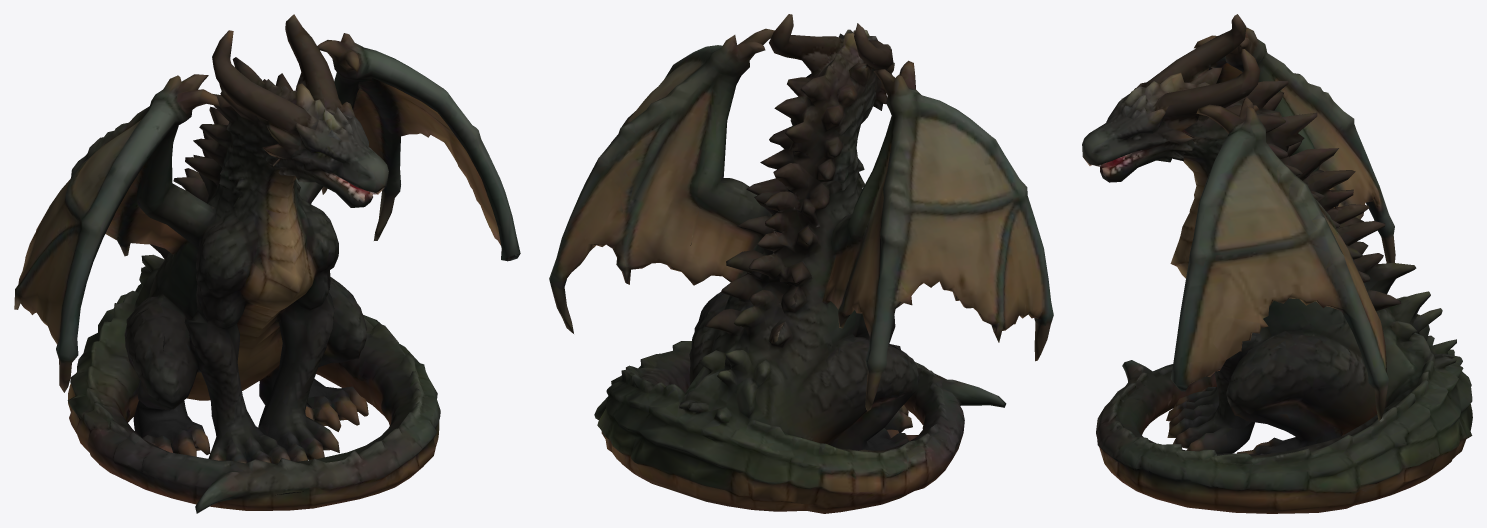
Rendered from detail_14_lo.glb.
3 views of the same model, side by side, from view 1: azimuth 30°, elevation 25°; view 2: azimuth 150°, elevation 25°; view 3: azimuth 270°, elevation 25° (orthographic). The views are drawn at different scales.
Visible parts, largest first — view 1: Mesh_0.001; view 2: Mesh_0.001; view 3: Mesh_0.001.
Part boxes in pixels (x1,y1,x2,y2): Mesh_0.001: (14, 14, 520, 513); Mesh_0.001: (549, 14, 1053, 513); Mesh_0.001: (1082, 14, 1472, 513).
Bounding box in the file's own units: 1.01 × 0.9456 × 0.8042.
1 material, 1 textured.
